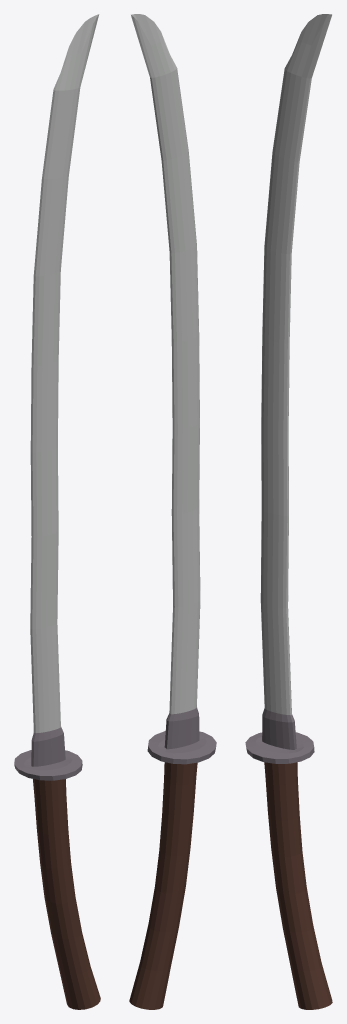
File: Katana.fbx
3 renders of one model, left to right at view 1: azimuth 30°, elevation 25°; view 2: azimuth 210°, elevation 25°; view 3: azimuth 330°, elevation 25°, orthographic.
Parts seen in each view (by area): view 1: Katana; view 2: Katana; view 3: Katana.
Part boxes in pixels (left/top/right/bottom): Katana: left=14, top=14, right=100, bottom=1009; Katana: left=129, top=14, right=216, bottom=1009; Katana: left=245, top=14, right=332, bottom=1009.
Size of the model in its own units: 14.37 by 166 by 10.58.
